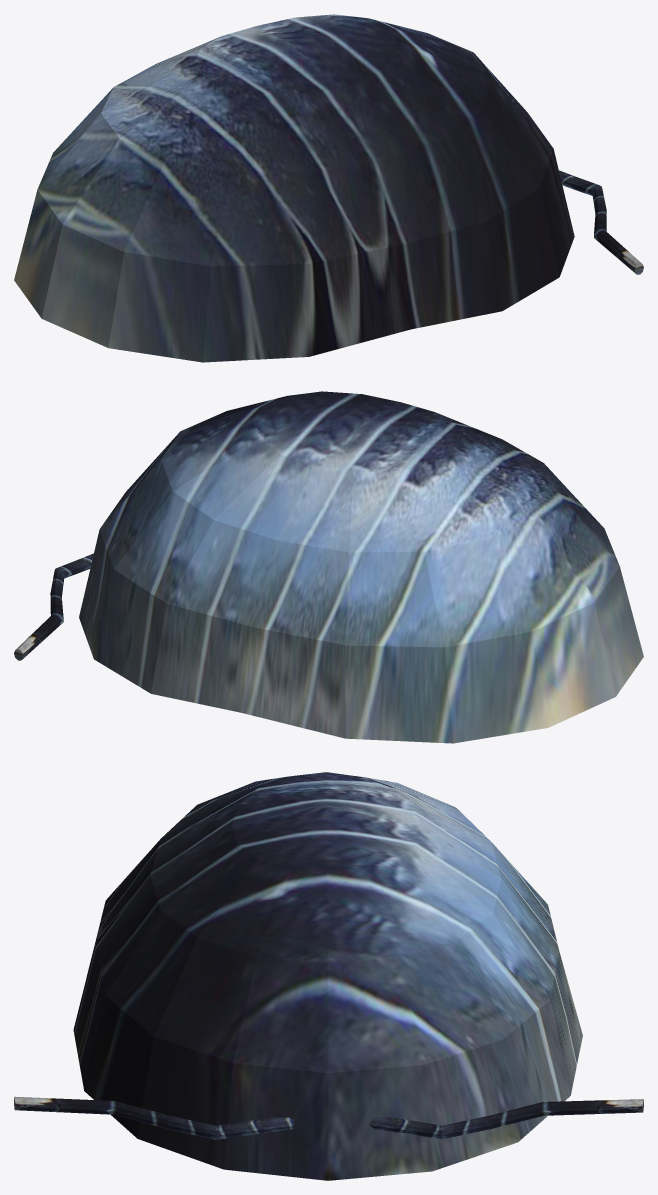
The model's file is armadillidium.dae.
3 renders of one model, top to bottom at view 1: azimuth 30°, elevation 25°; view 2: azimuth 150°, elevation 25°; view 3: azimuth 270°, elevation 25°, orthographic. The views are drawn at different scales.
Parts seen in each view (by area): view 1: node; view 2: node; view 3: node.
Part boxes in pixels (x1,y1,x2,y2): node: (14,14,643,362); node: (14,391,643,743); node: (14,772,643,1180).
Size of the model in its own units: 2 by 0.8197 by 1.96.
1 material, 1 textured.
